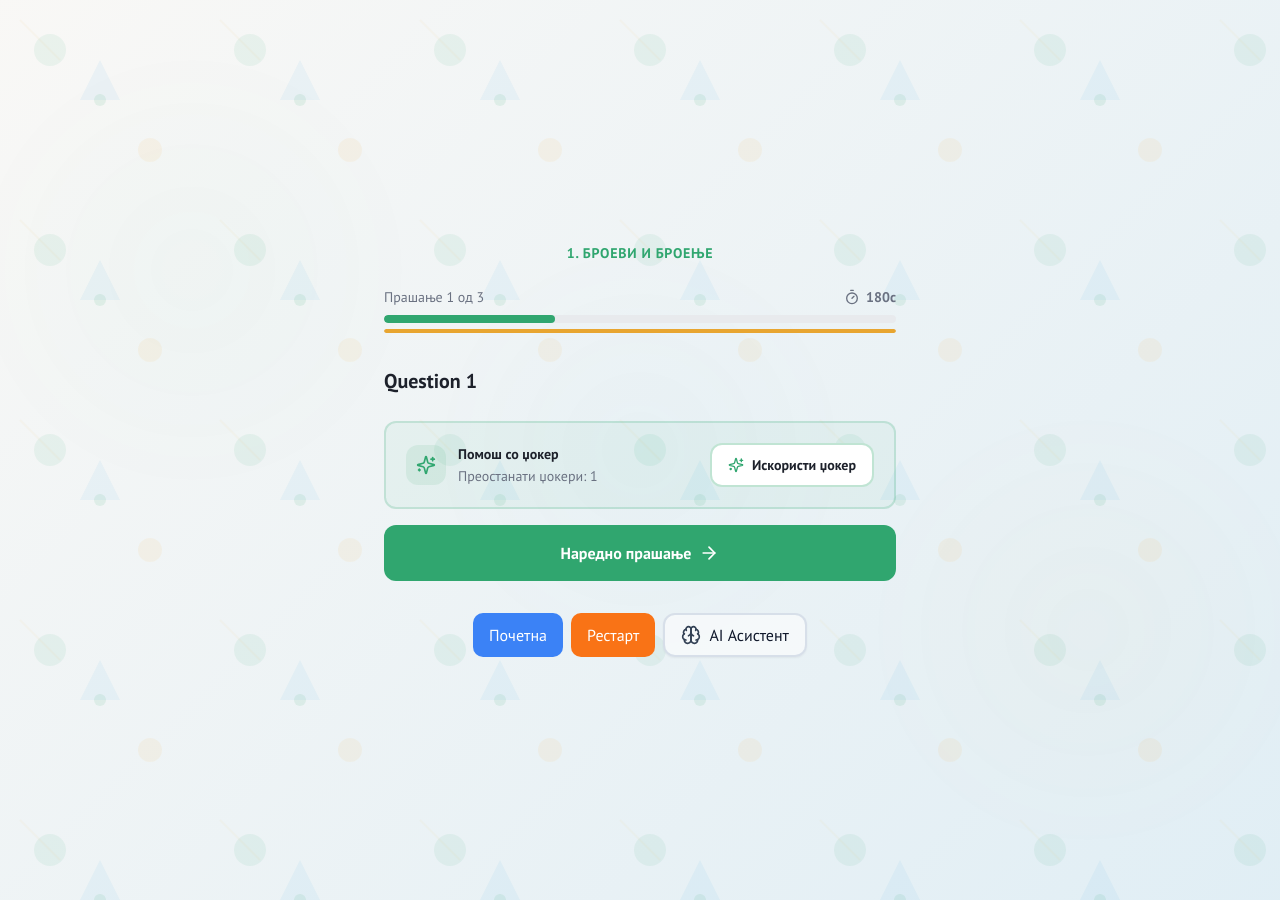
Test: paper quiz jokers › honors a different allowance and shows it in the summary
The width and height of the screenshot is (1280, 900).
Check: the text "Преостанати џокери: 1" is shown, box [458, 466, 598, 486]
Click the button "Искористи џокер".
click(792, 465)  # box [710, 443, 874, 487]
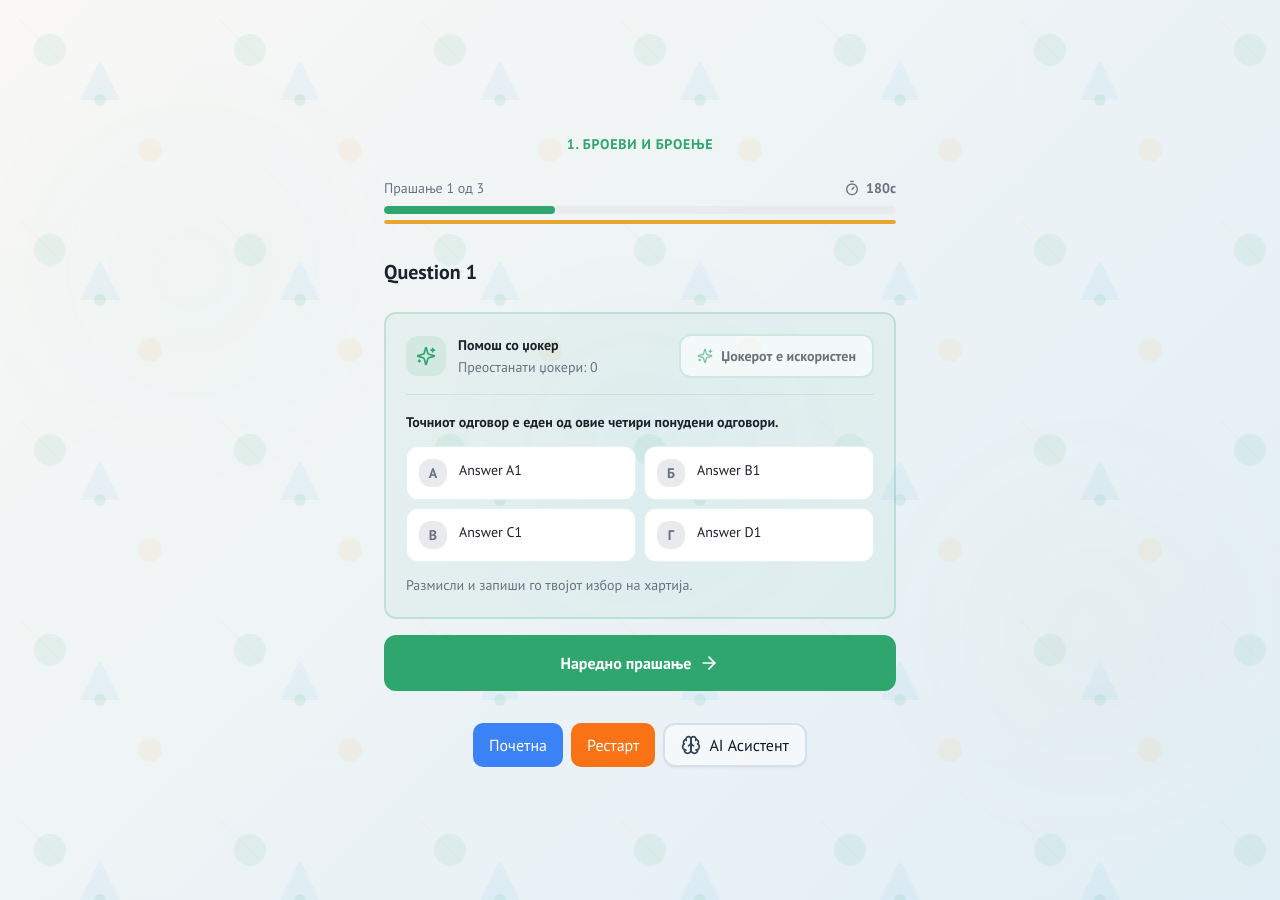
Click the button "Наредно прашање".
click(640, 662)  # box [384, 634, 896, 690]
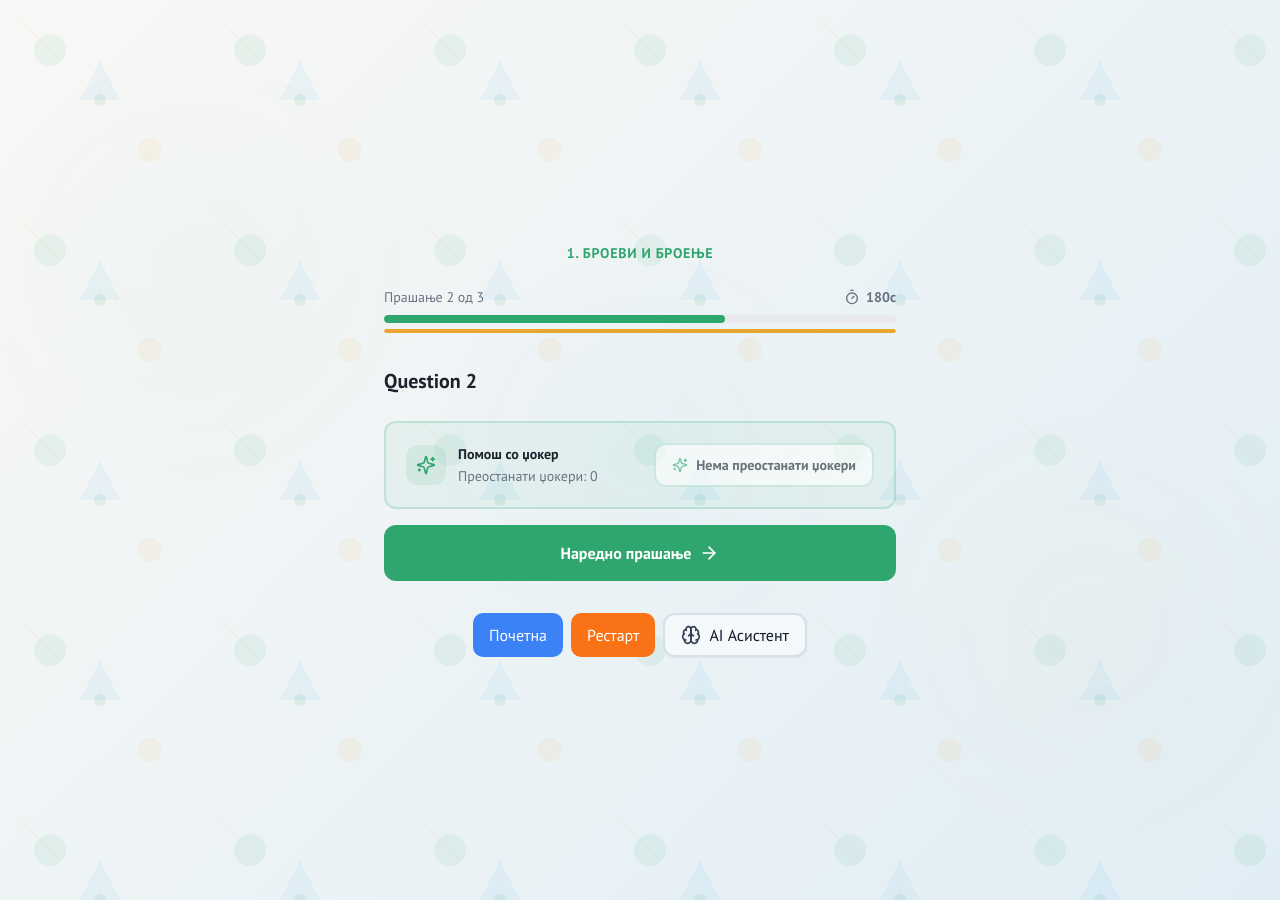
Check: the button "Нема преостанати џокери" is disabled, box [654, 443, 874, 487]
Click the button "Наредно прашање".
click(640, 553)  # box [384, 525, 896, 581]
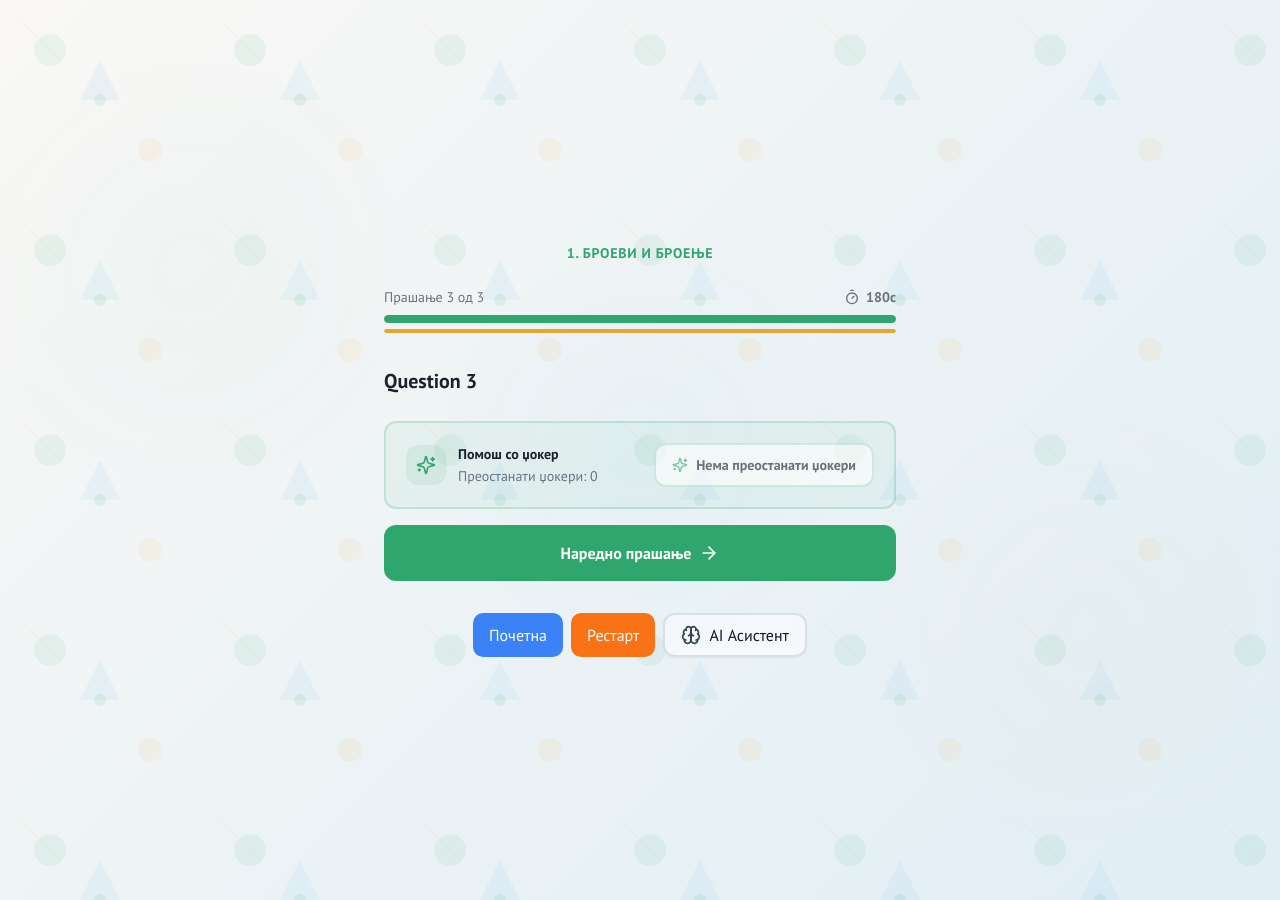
Click the button "Наредно прашање".
click(640, 553)  # box [384, 525, 896, 581]
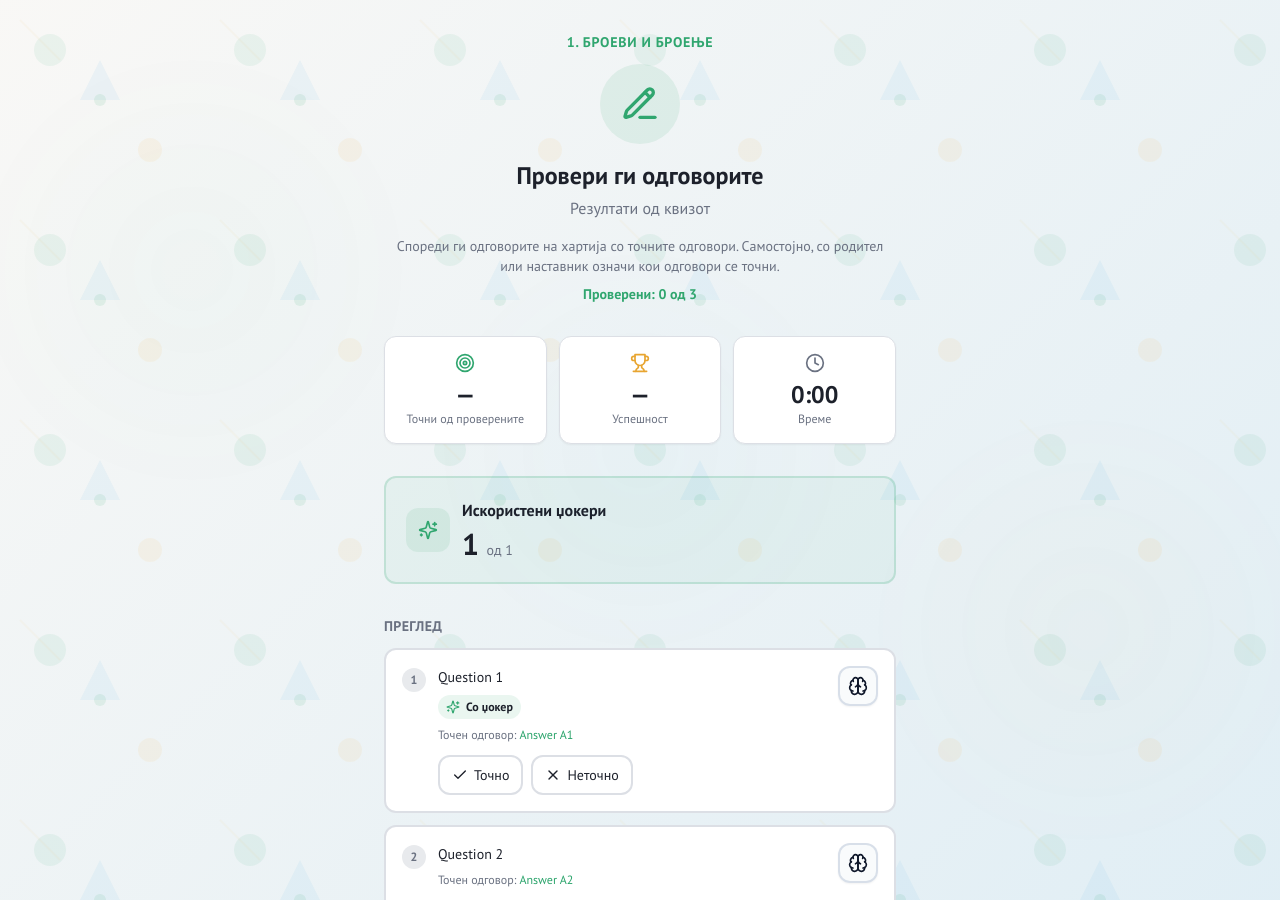
Check: the element named "Џокери во квизот" shows "1 од 1", box [384, 476, 896, 584]
